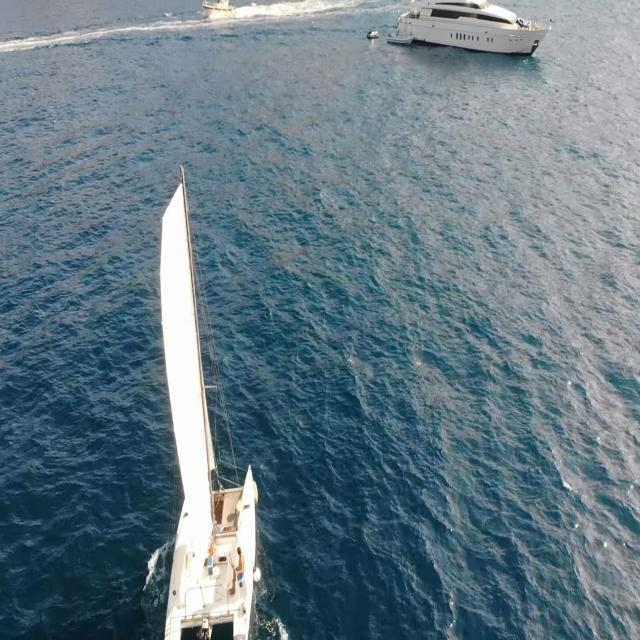boat: (398, 5, 548, 60), (201, 0, 236, 23), (388, 28, 415, 53), (366, 26, 380, 44)
sailboat: (132, 158, 268, 640)
